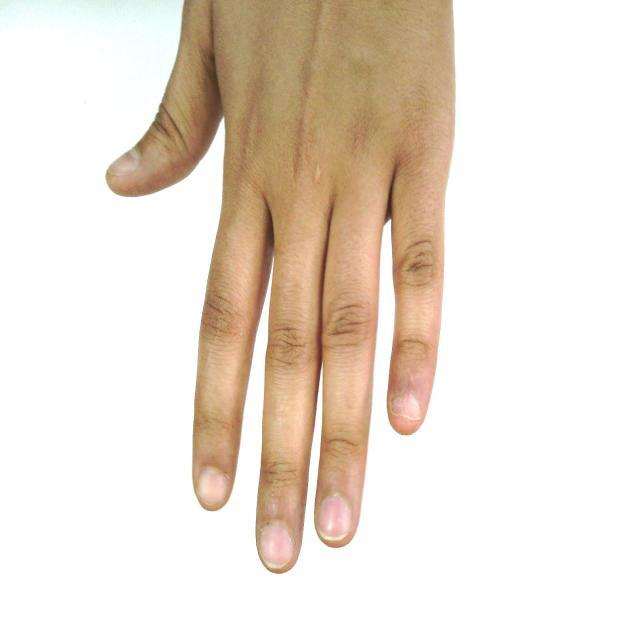Fingernail: (318, 496, 349, 541), (260, 528, 291, 568), (198, 469, 227, 509), (107, 148, 141, 177), (392, 396, 420, 421)
